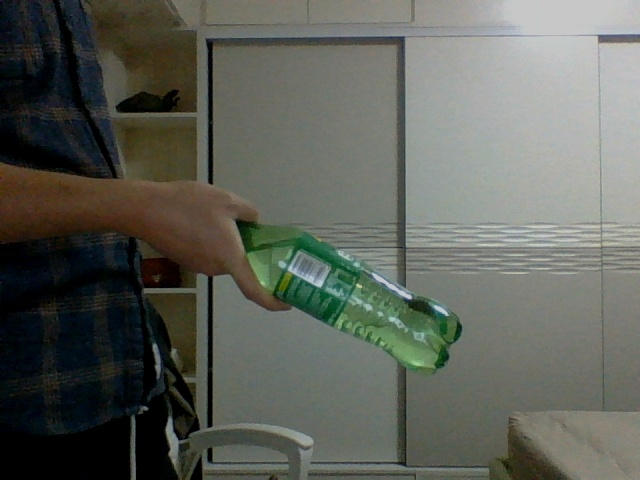Sprite: (238, 222, 462, 371)
